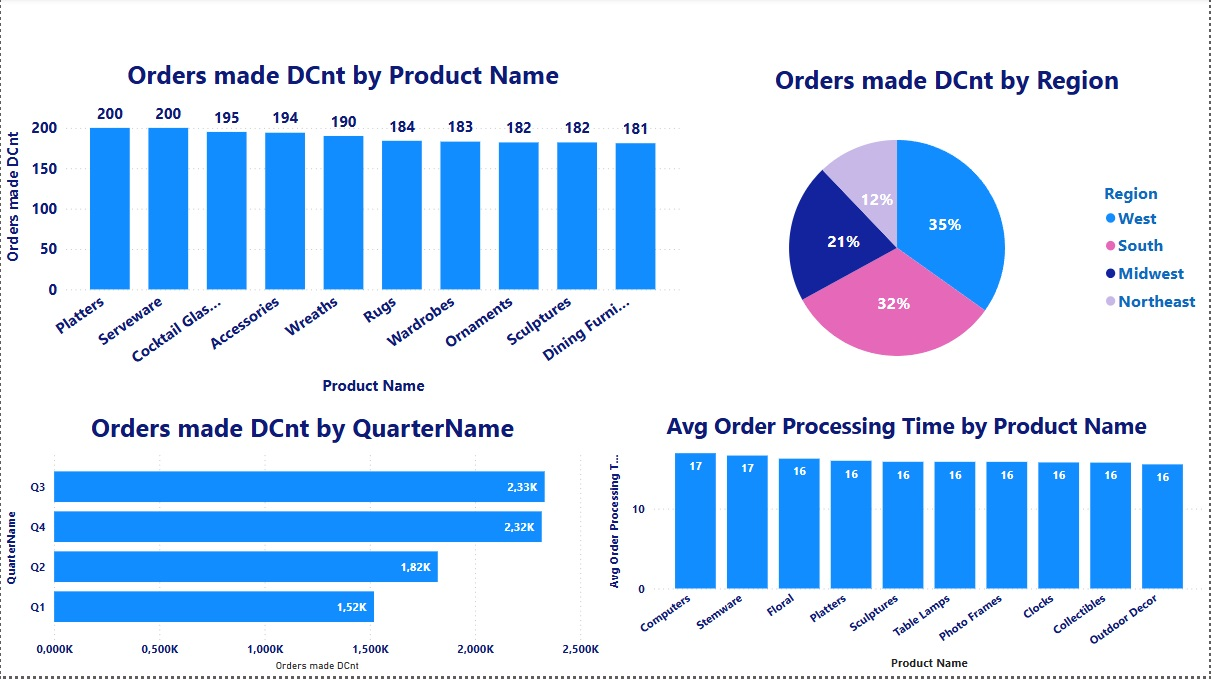

Layout of this report page (visuals, bound fields, positions):
{"tool":"powerbi","page":{"name":"Logistics Dashboard: Top Products, Regions & Processing Time","canvas":[1280,720],"ordinal":2},"visuals":[{"type":"clusteredColumnChart","fields":{"Category":["Products Sheet.Product Name"],"Y":["Measures Table.Orders made DCnt"]},"box":[0,63.9,725.3,363.6],"z":0},{"type":"pieChart","fields":{"Category":["Regions Sheet.Region"],"Y":["Measures Table.Orders made DCnt"]},"box":[725.3,67.9,555.4,359.6],"z":1000},{"type":"clusteredBarChart","fields":{"Category":["DimDate.QuarterName"],"Y":["Measures Table.Orders made DCnt"]},"box":[0,437.6,639.3,281.7],"z":2000},{"type":"clusteredColumnChart","fields":{"Category":["Products Sheet.Product Name"],"Y":["Measures Table.Avg Order Processing Time"]},"box":[639.3,437.6,641.3,281.7],"z":2001}]}

Visuals, with their boxes in screenshot pixels (x1, y1, x2, y2), scaled from the page's 1280x720 canvas onto the 1211x679 screenshot:
clusteredColumnChart - Products Sheet.Product Name x Measures Table.Orders made DCnt: [x1=0, y1=60, x2=686, y2=403]
pieChart - Regions Sheet.Region x Measures Table.Orders made DCnt: [x1=686, y1=64, x2=1210, y2=403]
clusteredBarChart - DimDate.QuarterName x Measures Table.Orders made DCnt: [x1=0, y1=413, x2=605, y2=678]
clusteredColumnChart - Products Sheet.Product Name x Measures Table.Avg Order Processing Time: [x1=605, y1=413, x2=1210, y2=678]
